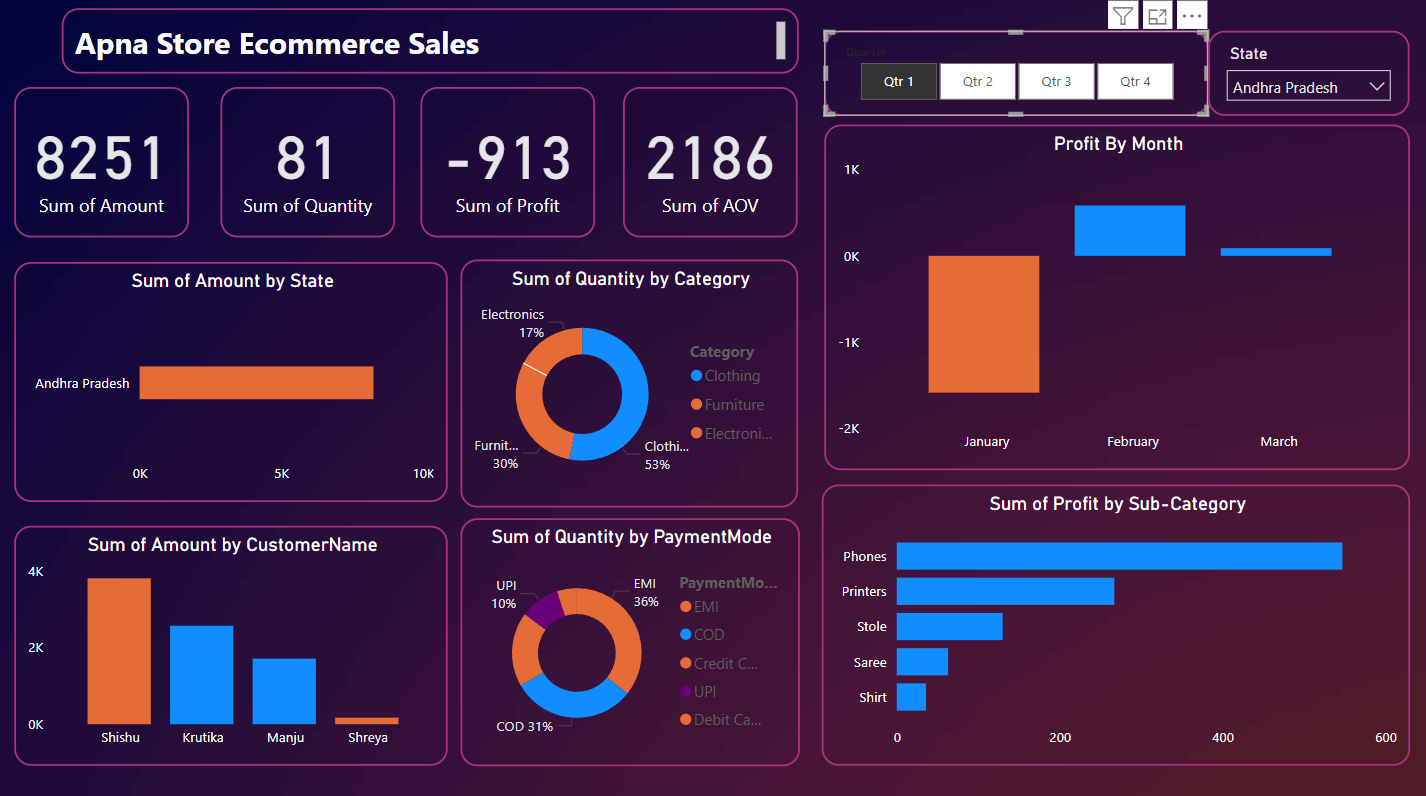

The page's visual inventory and layout, read from the dashboard file:
{"tool":"powerbi","page":{"name":"Page 1","canvas":[1280,720],"ordinal":0},"visuals":[{"type":"textbox","box":[57.1,10,658.6,58.6],"z":0},{"type":"columnChart","title":"Profit By Month","fields":{"Y":["Details.Profit"],"Category":["Orders.Order date.Variation.Date Hierarchy.Month"]},"box":[738.6,114.3,522.9,308.6],"z":1000},{"type":"barChart","fields":{"Category":["Details.Sub-Category"],"Y":["Details.Profit"]},"box":[735.7,435.7,525.7,251.4],"z":2000},{"type":"donutChart","fields":{"Category":["Details.Category"],"Y":["Details.Quantity"]},"box":[412.9,234.3,301.4,221.4],"z":3000},{"type":"donutChart","fields":{"Y":["Details.Quantity"],"Category":["Details.PaymentMode"]},"box":[412.9,465.7,302.9,221.4],"z":4000},{"type":"card","fields":{"Values":["Details.Amount"]},"box":[14.3,80,155.7,134.3],"z":5000},{"type":"card","fields":{"Values":["Details.Quantity"]},"box":[198.6,80,155.7,134.3],"z":6000},{"type":"card","fields":{"Values":["Details.Profit"]},"box":[377.1,80,155.7,134.3],"z":7000},{"type":"card","fields":{"Values":["Details.AOV"]},"box":[558.6,80,155.7,134.3],"z":8000},{"type":"barChart","fields":{"Category":["Orders.State"],"Y":["Details.Amount"]},"box":[14.3,237.1,387.1,214.3],"z":9000},{"type":"columnChart","fields":{"Category":["Orders.CustomerName"],"Y":["Details.Amount"]},"box":[14.3,472.9,387.1,214.3],"z":10000},{"type":"slicer","fields":{"Values":["Orders.Order date.Variation.Date Hierarchy.Quarter"]},"box":[738.6,30,342.9,75.7],"z":11000},{"type":"slicer","fields":{"Values":["Orders.State"]},"box":[1081.4,30,180,75.7],"z":12000}]}

Visuals, with their boxes in screenshot pixels (x1, y1, x2, y2), scaled from the page's 1280x720 canvas onto the 1426x796 screenshot:
textbox: [64,11,797,76]
"Profit By Month" columnChart: [823,126,1405,468]
barChart - Details.Sub-Category x Details.Profit: [820,482,1405,760]
donutChart - Details.Category x Details.Quantity: [460,259,796,504]
donutChart - Details.Quantity x Details.PaymentMode: [460,515,797,760]
card - Details.Amount: [16,88,189,237]
card - Details.Quantity: [221,88,395,237]
card - Details.Profit: [420,88,594,237]
card - Details.AOV: [622,88,796,237]
barChart - Orders.State x Details.Amount: [16,262,447,499]
columnChart - Orders.CustomerName x Details.Amount: [16,523,447,760]
slicer - Orders.Order date.Variation.Date Hierarchy.Quarter: [823,33,1205,117]
slicer - Orders.State: [1205,33,1405,117]
